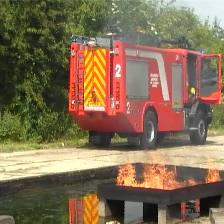fire_h: (116, 150, 196, 190)
fire_l: (205, 155, 220, 184)
